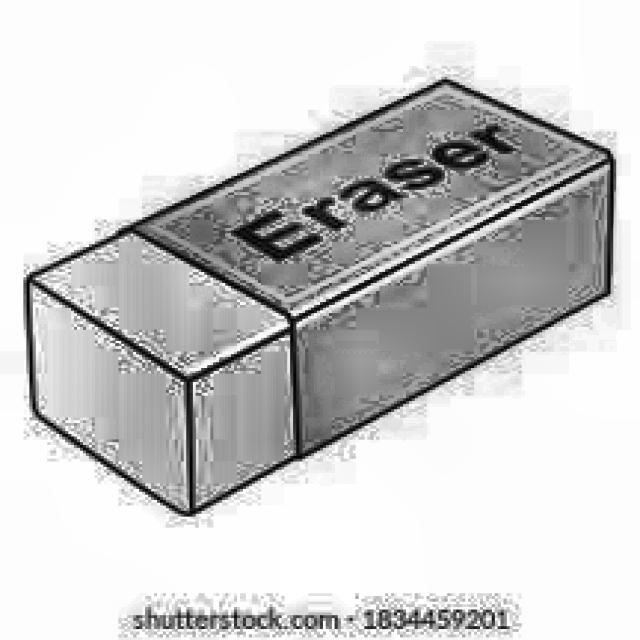eraser: (15, 66, 622, 525)
